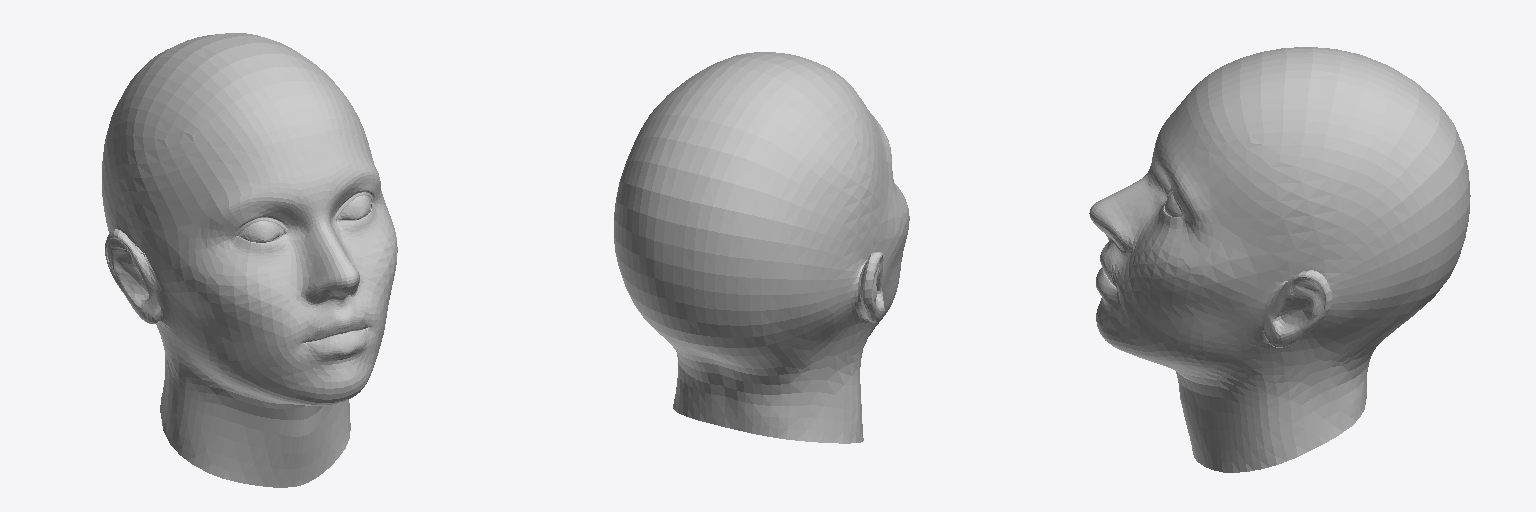
3 views of the same model, side by side, from view 1: azimuth 30°, elevation 25°; view 2: azimuth 150°, elevation 25°; view 3: azimuth 270°, elevation 25° (orthographic).
Visible parts, largest first — view 1: FaceGen; view 2: FaceGen; view 3: FaceGen.
Boxes of the visible parts, box(x1,y1,x2,y2) form: FaceGen: box(102, 33, 397, 487); FaceGen: box(614, 52, 909, 443); FaceGen: box(1089, 47, 1470, 472).
Bounding box in the file's own units: 190 × 282 × 245.